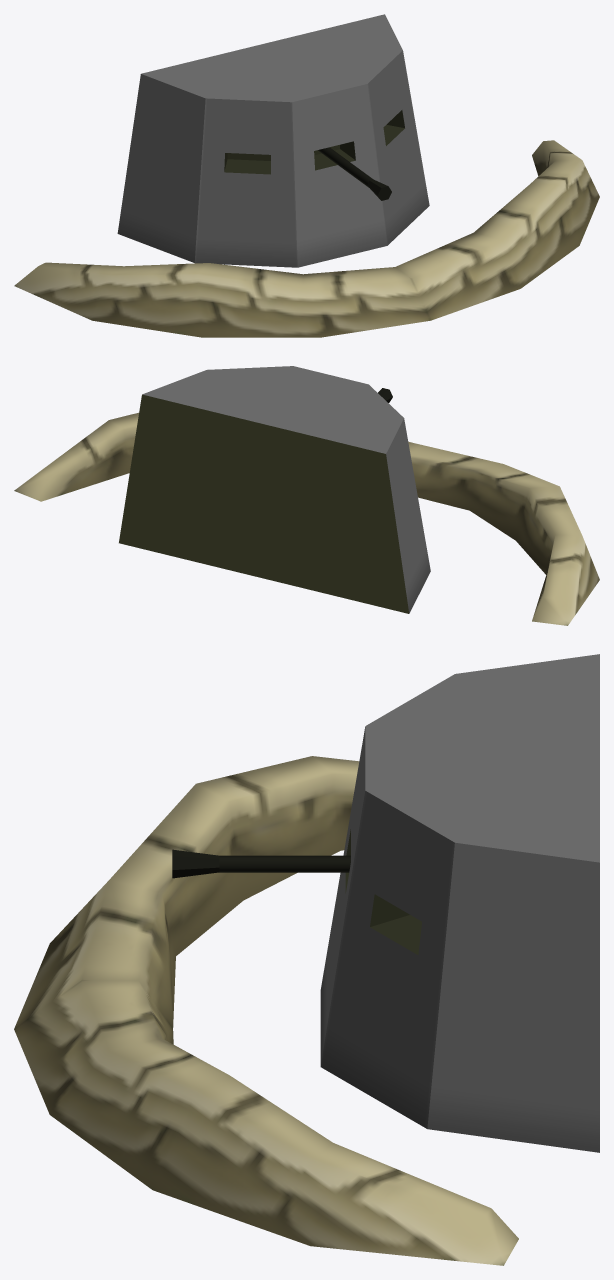
The model's file is Bunker_Concrete.DAE.
3 views of the same model, one above another, from view 1: azimuth 30°, elevation 25°; view 2: azimuth 150°, elevation 25°; view 3: azimuth 270°, elevation 25° (orthographic). The views are drawn at different scales.
Parts seen in each view (by area): view 1: BunkerConcrete; view 2: BunkerConcrete; view 3: BunkerConcrete.
Part boxes in pixels (x1,y1,x2,y2): BunkerConcrete: [14, 14, 599, 337]; BunkerConcrete: [14, 366, 599, 625]; BunkerConcrete: [14, 654, 599, 1265].
Bounding box in the file's own units: 2355 × 627 × 1232.
1 material, 1 textured.
